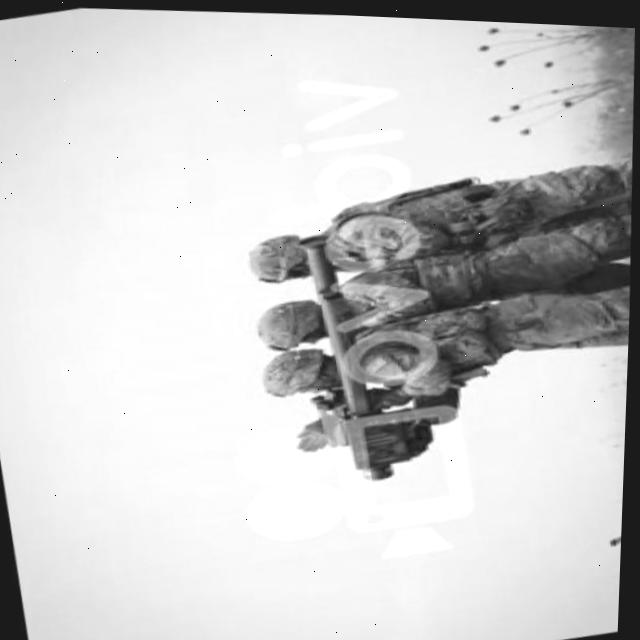rocket: (284, 222, 412, 488)
